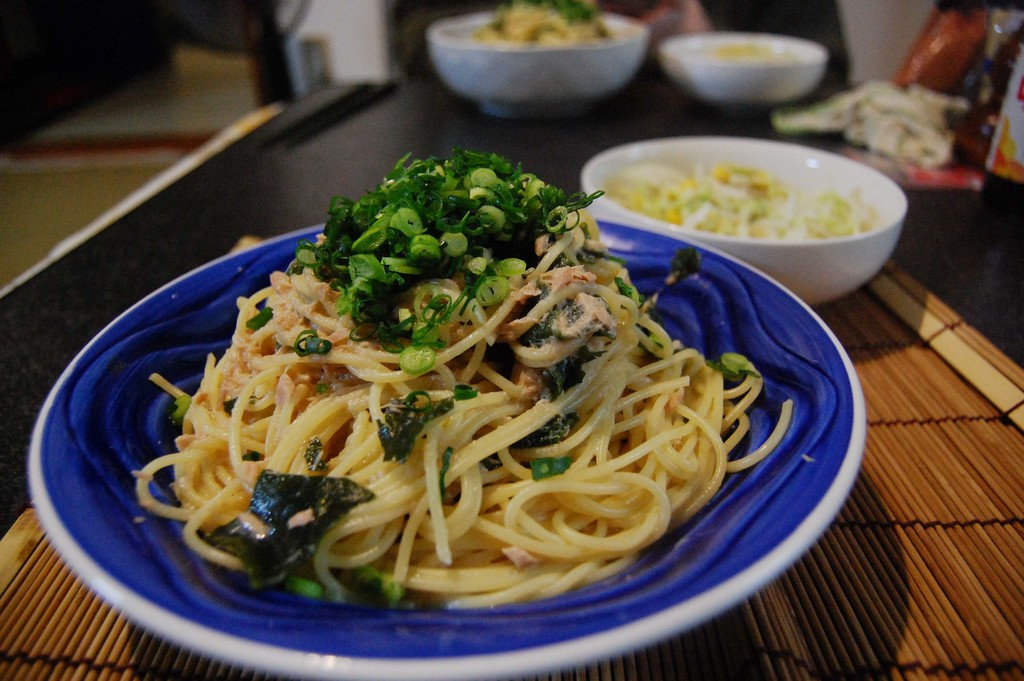pasta: (134, 234, 793, 610)
